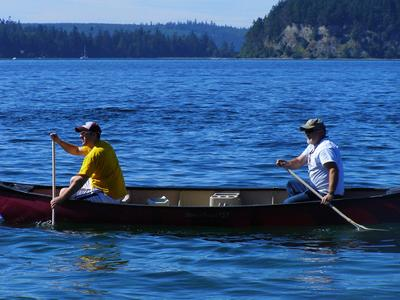person: (277, 117, 348, 204)
